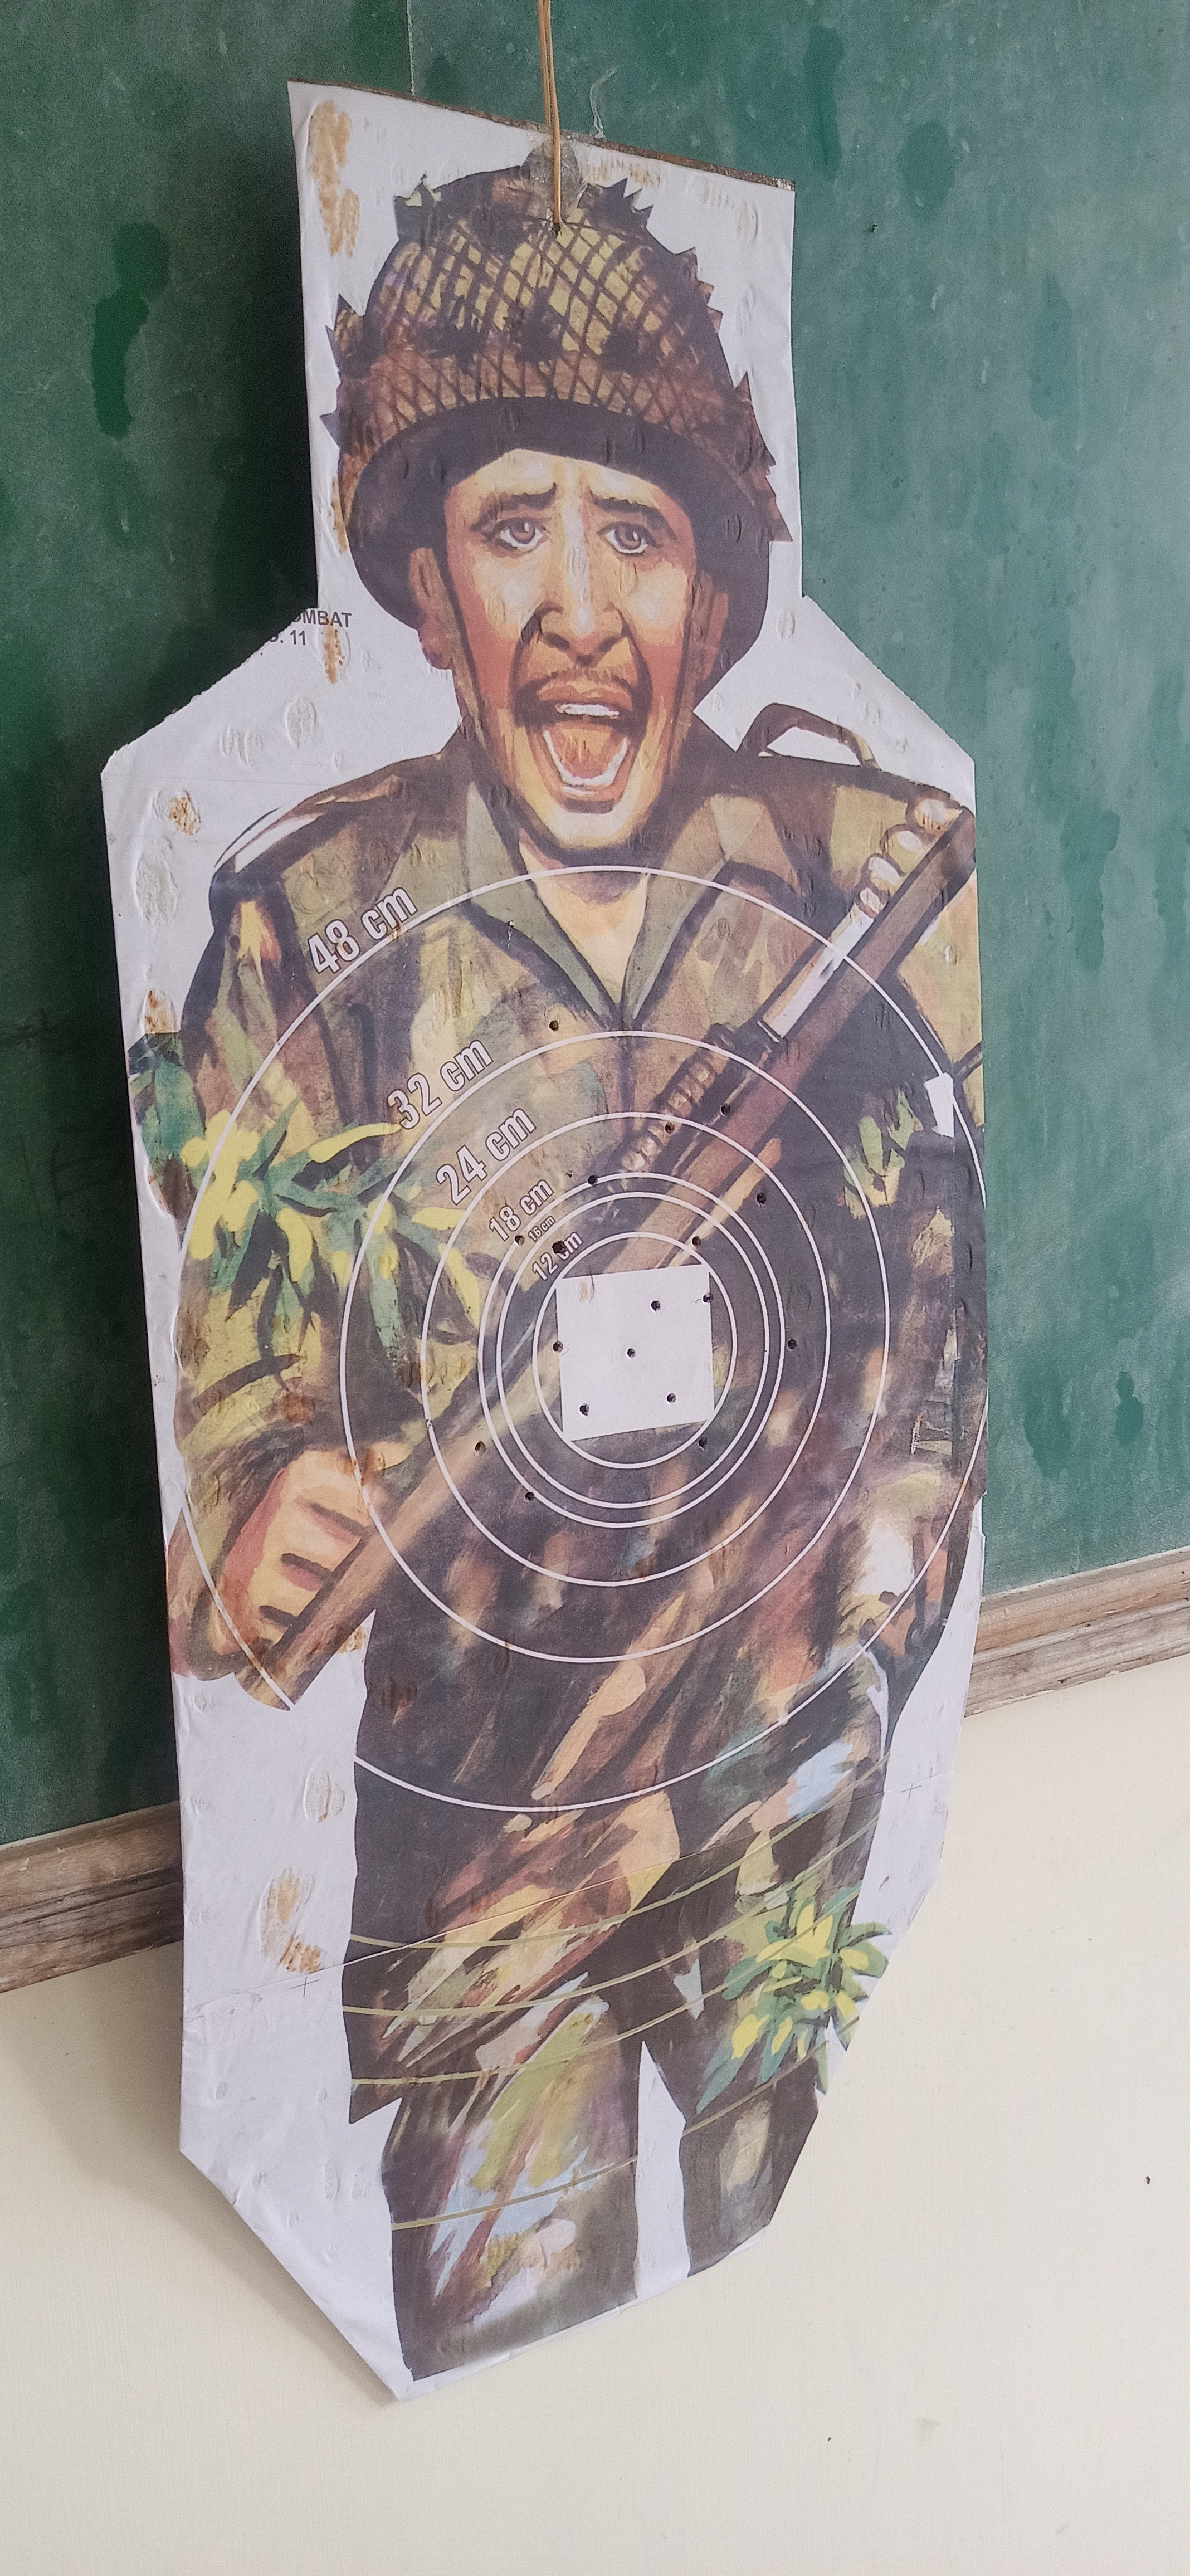bullet hit: (746, 1183, 776, 1209), (547, 1234, 572, 1263), (659, 1115, 684, 1140), (685, 1226, 708, 1252), (583, 1165, 603, 1194), (468, 1436, 491, 1460), (519, 1482, 541, 1506), (715, 1097, 736, 1122), (648, 1295, 667, 1319), (511, 1227, 529, 1252), (784, 1332, 802, 1355), (547, 1012, 565, 1035), (664, 1387, 680, 1411), (621, 1344, 641, 1364), (551, 1337, 567, 1359), (575, 1401, 592, 1419), (699, 1290, 715, 1306), (695, 1436, 710, 1454)
white box: (546, 1260, 723, 1446)
